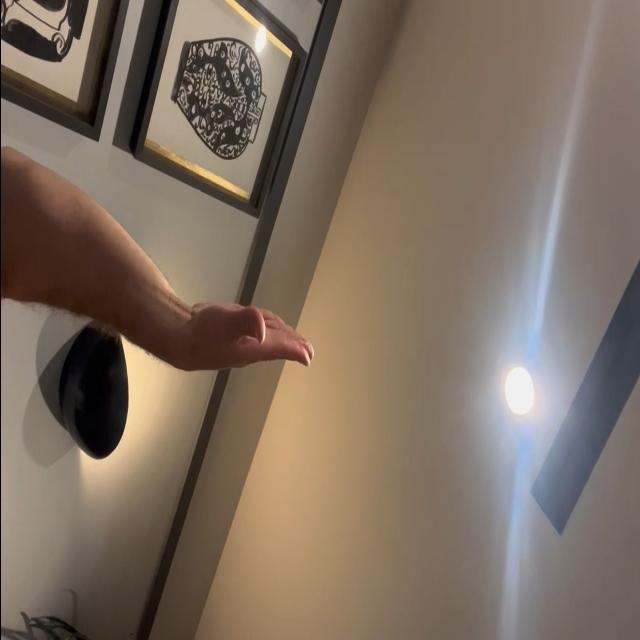Paper: (183, 297, 313, 377)
